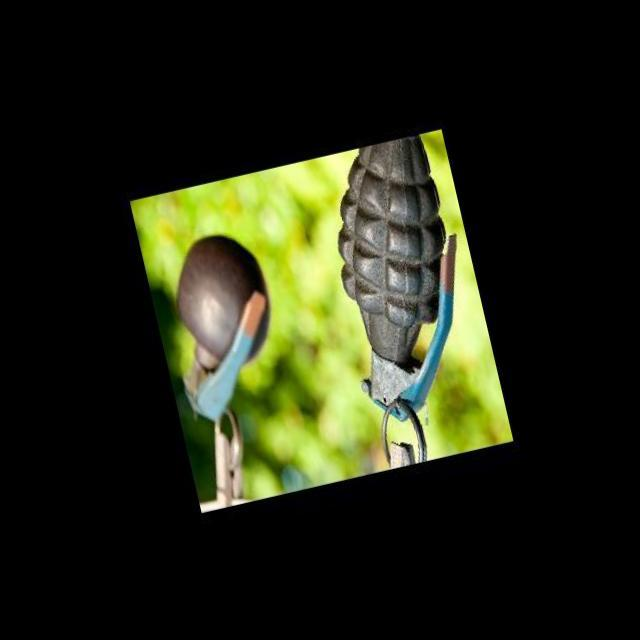grenade: (306, 128, 508, 476)
